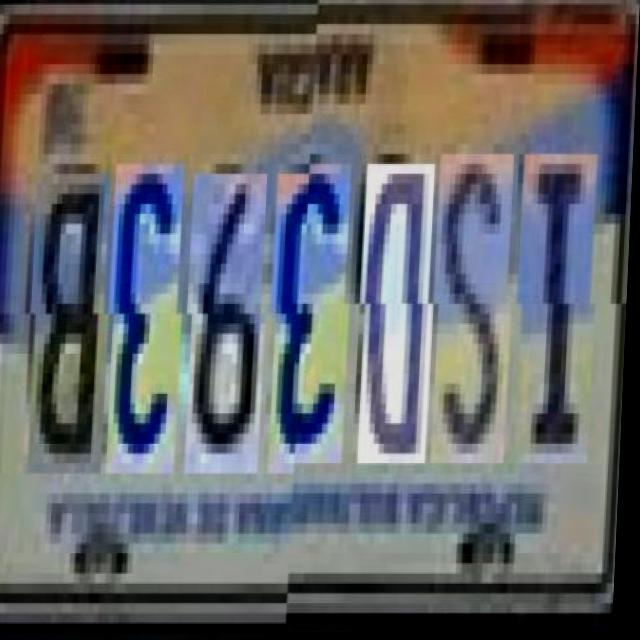3: (267, 163, 353, 464), (104, 153, 186, 464)
9: (183, 163, 269, 464)
b: (27, 163, 113, 464)
d: (355, 163, 437, 464)
i: (513, 153, 599, 464)
s: (429, 153, 515, 464)
